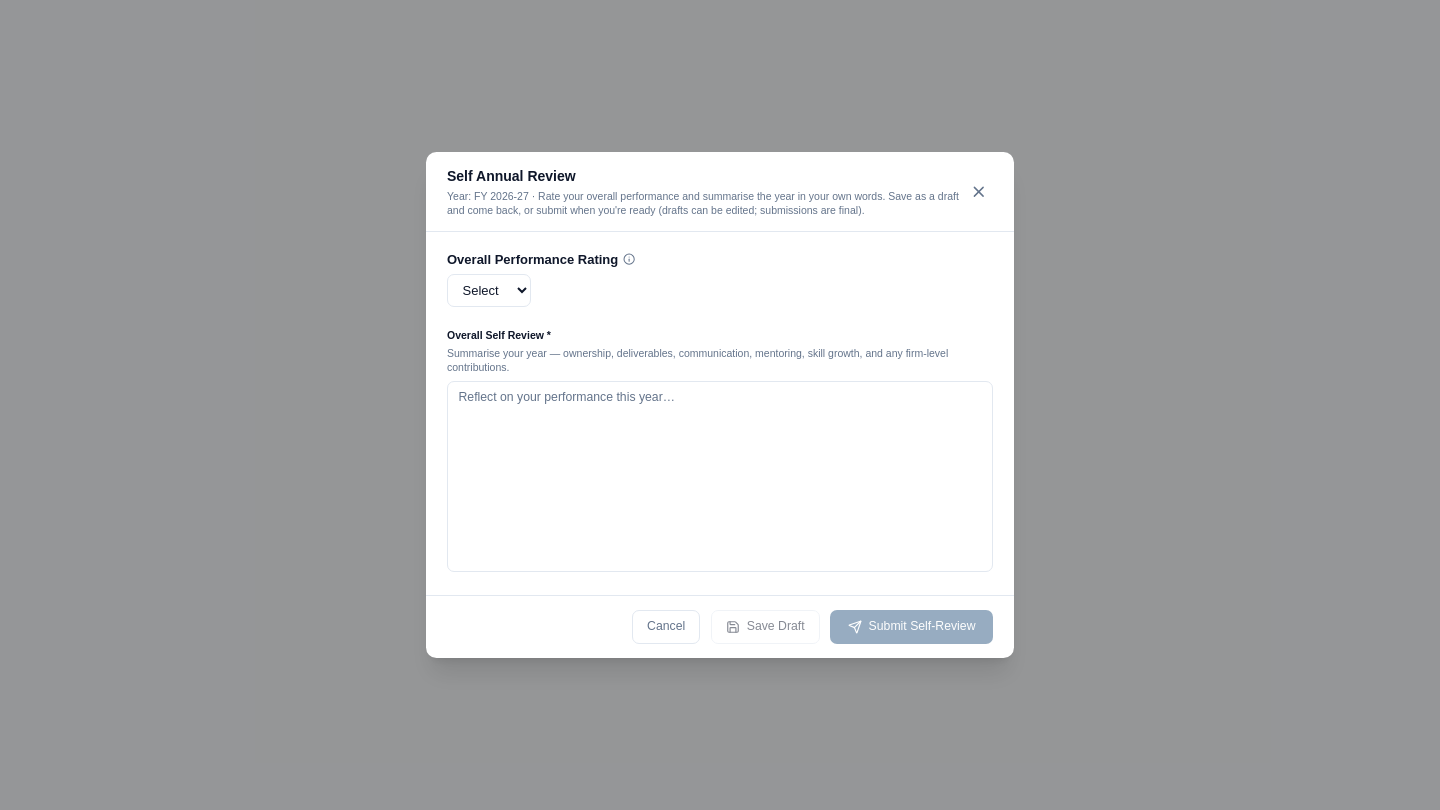
Scenario: SelfReviewFormModal — Save Draft gate › enables Save Draft once the first character is typed
The width and height of the screenshot is (1440, 810).
Check: the button "Save Draft" is disabled, box [711,610,820,644]
Type "P" into the text box with placeholder "Reflect on your performance this year…". click: [720, 476]
box: [447,381,993,572]
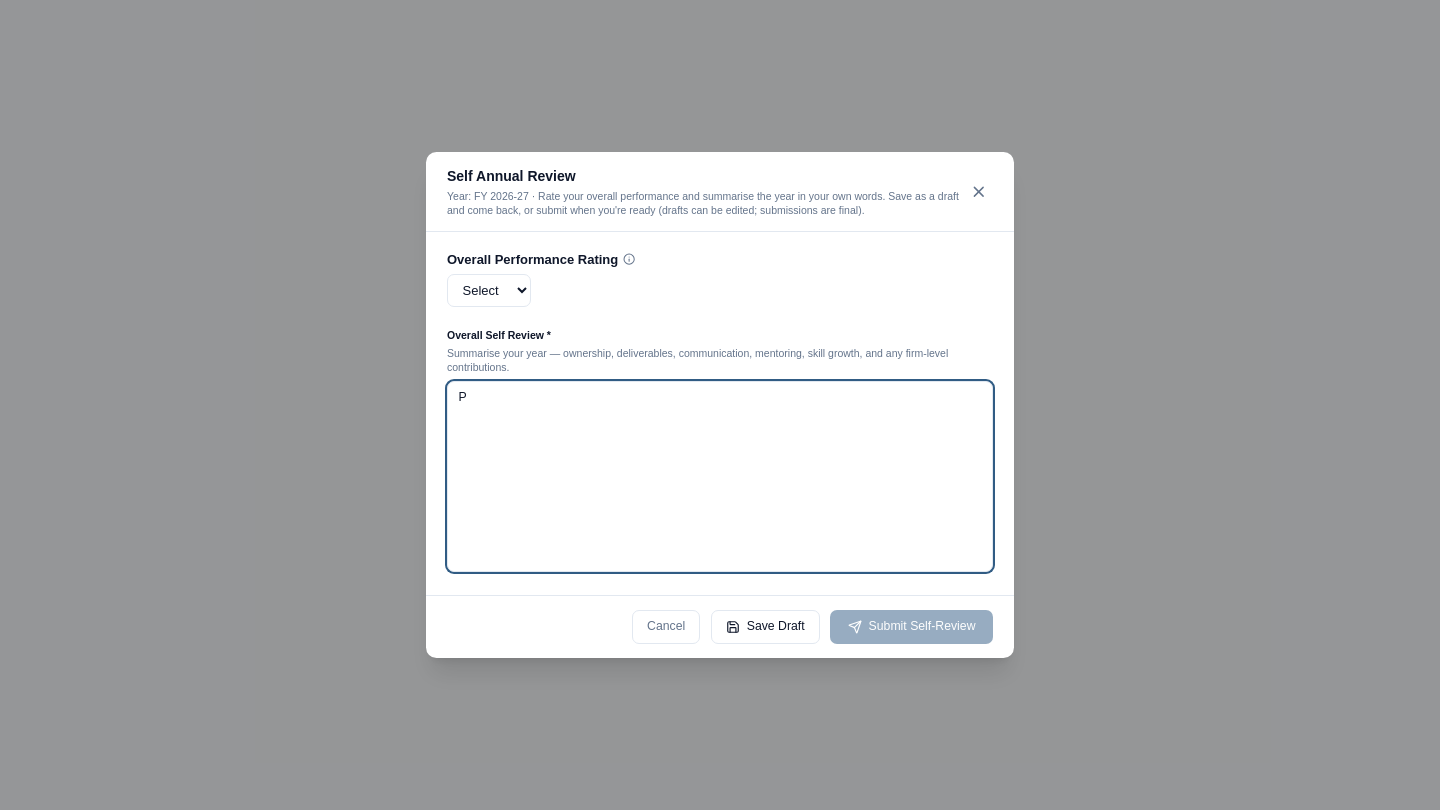
Check: the button "Save Draft" is enabled, box [711,610,820,644]
